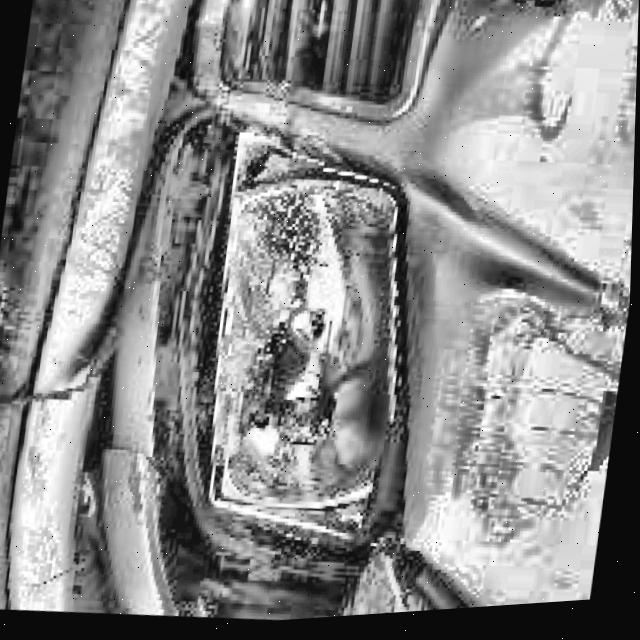head_lamp: (190, 157, 410, 527)
